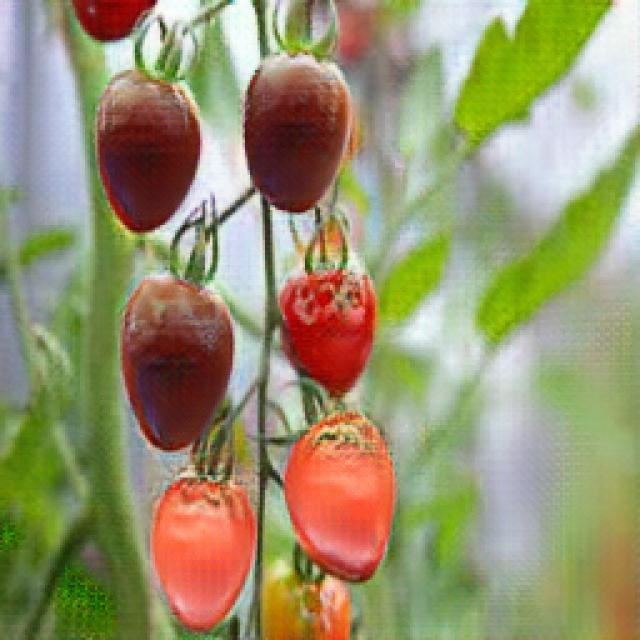overripe tomato: (121, 277, 239, 450), (94, 64, 205, 240), (239, 49, 351, 202), (281, 260, 370, 398)
